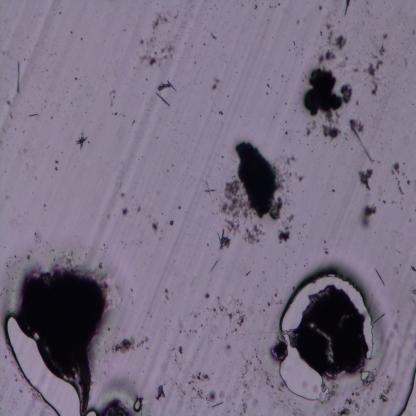Air bubble: (3, 312, 82, 416), (278, 264, 378, 334), (280, 333, 328, 403)
Background material: (21, 262, 111, 382), (297, 286, 369, 376), (223, 176, 265, 246), (230, 345, 272, 413), (138, 5, 180, 67), (306, 66, 352, 119), (202, 289, 246, 330), (181, 366, 219, 405), (367, 32, 387, 101), (311, 30, 347, 66), (274, 154, 294, 210), (349, 121, 374, 164), (393, 370, 416, 416), (99, 390, 131, 415), (390, 160, 411, 198), (338, 388, 364, 415), (278, 210, 296, 246), (156, 79, 177, 107), (163, 345, 188, 367), (361, 199, 378, 228), (302, 114, 319, 142), (114, 335, 136, 356), (369, 266, 389, 289), (379, 380, 399, 403), (358, 164, 373, 194), (216, 226, 232, 254), (106, 87, 120, 116), (272, 337, 288, 362), (136, 331, 154, 351), (322, 124, 343, 141), (203, 178, 217, 202), (146, 213, 161, 233), (360, 371, 375, 386), (133, 394, 144, 414), (156, 382, 166, 404), (76, 131, 87, 150), (212, 74, 221, 92), (404, 262, 416, 275), (51, 154, 59, 171), (16, 60, 20, 93), (344, 0, 352, 16), (120, 205, 130, 217), (84, 407, 98, 415), (166, 218, 175, 230), (210, 31, 218, 41), (217, 108, 225, 116)
Fragment: (235, 138, 278, 216)
